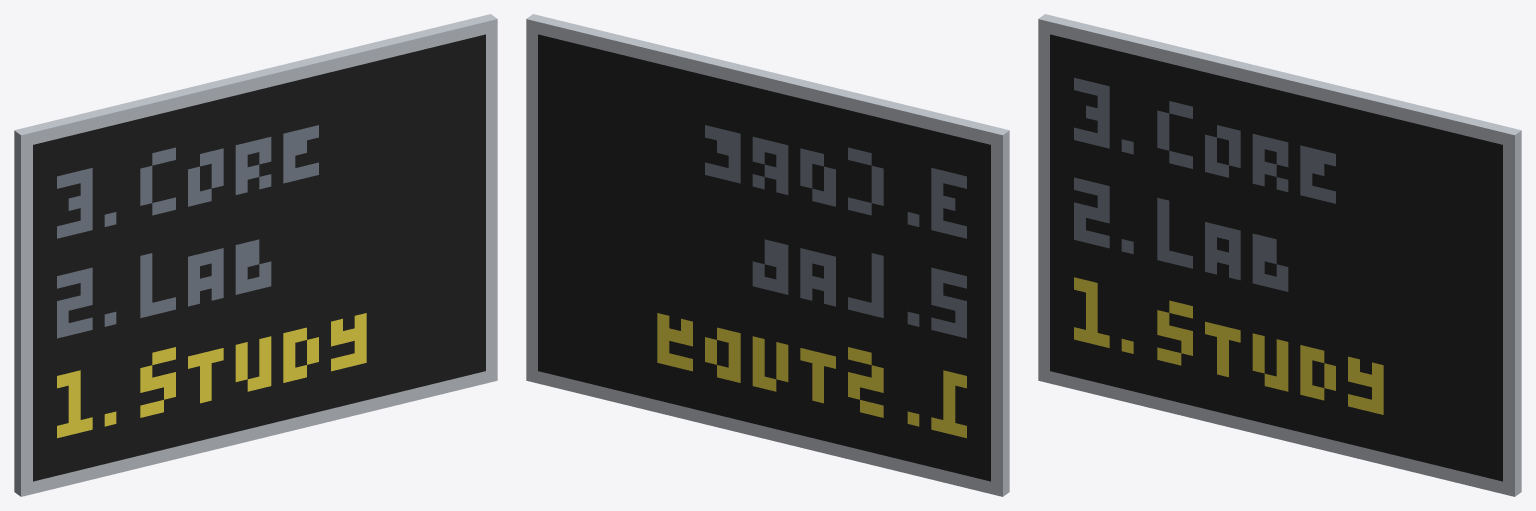
File: floor-1.obj
3 views of the same model, side by side, from view 1: azimuth 30°, elevation 25°; view 2: azimuth 150°, elevation 25°; view 3: azimuth 330°, elevation 25° (orthographic).
Size of the model in its own units: 4 by 2.9 by 0.1.
Materials: 1 (1 with a texture image).
